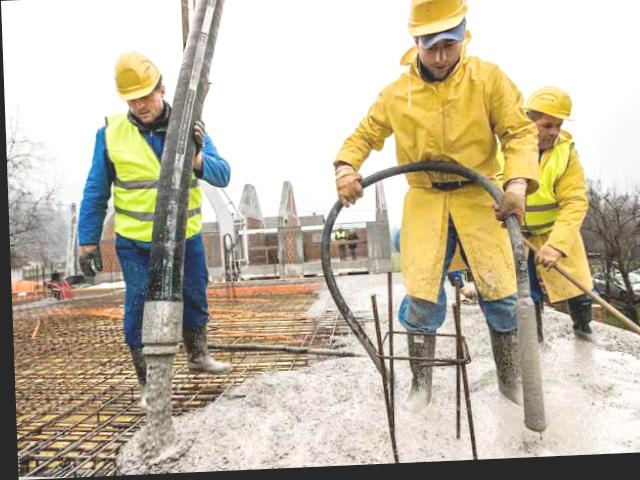helmet: (387, 0, 483, 50), (511, 82, 594, 128), (101, 45, 169, 100)
vest: (90, 107, 213, 260), (492, 138, 582, 242)
